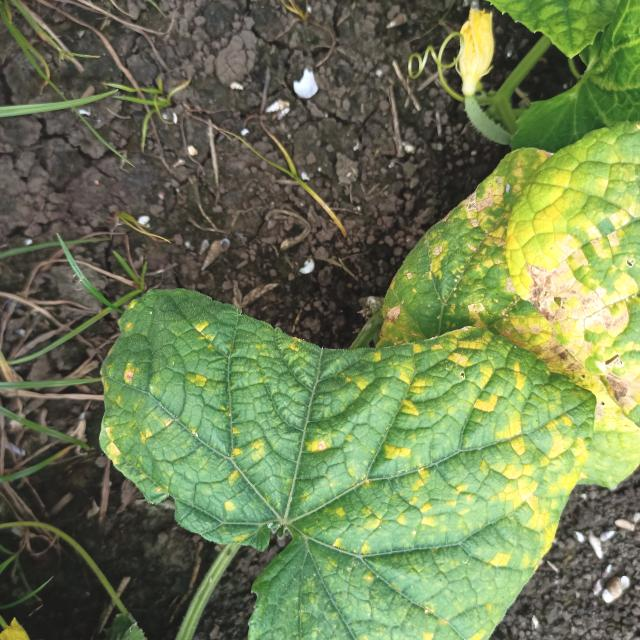disease_cucumber: (101, 320, 590, 631), (421, 148, 640, 440)
